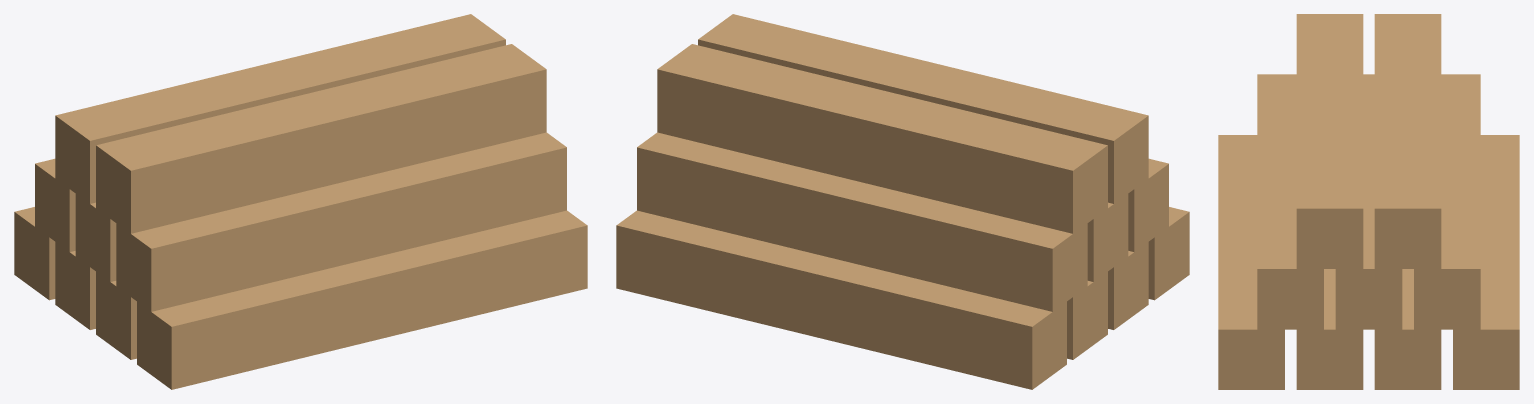
File: woodpile.glb
3 renders of one model, left to right at view 1: azimuth 30°, elevation 25°; view 2: azimuth 150°, elevation 25°; view 3: azimuth 270°, elevation 25°, orthographic. The views are drawn at different scales.
Parts seen in each view (by area): view 1: woodpile; view 2: woodpile; view 3: woodpile.
Boxes of the visible parts, bbox=[...] form: woodpile: bbox=[14, 14, 587, 389]; woodpile: bbox=[616, 14, 1189, 389]; woodpile: bbox=[1218, 14, 1519, 389].
Bounding box in the file's own units: 2 × 0.87 × 1.31.
